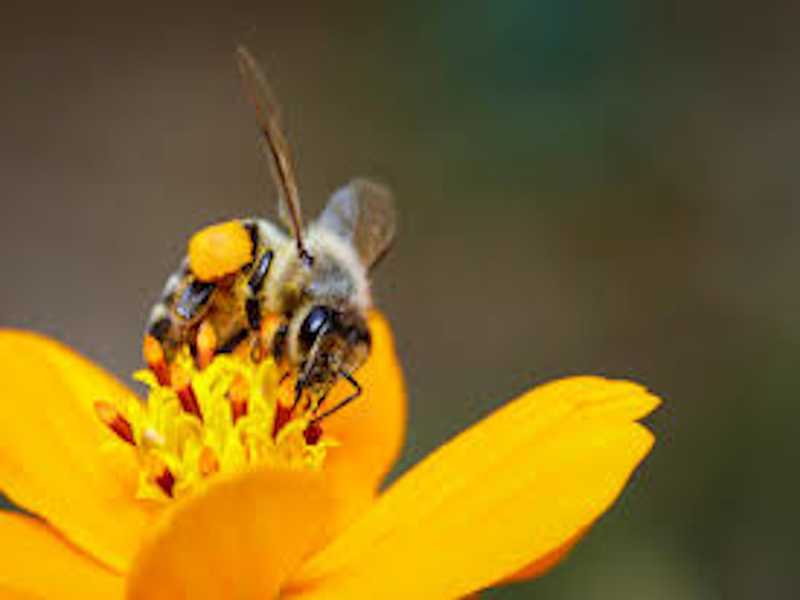abeja: (135, 61, 402, 435)
